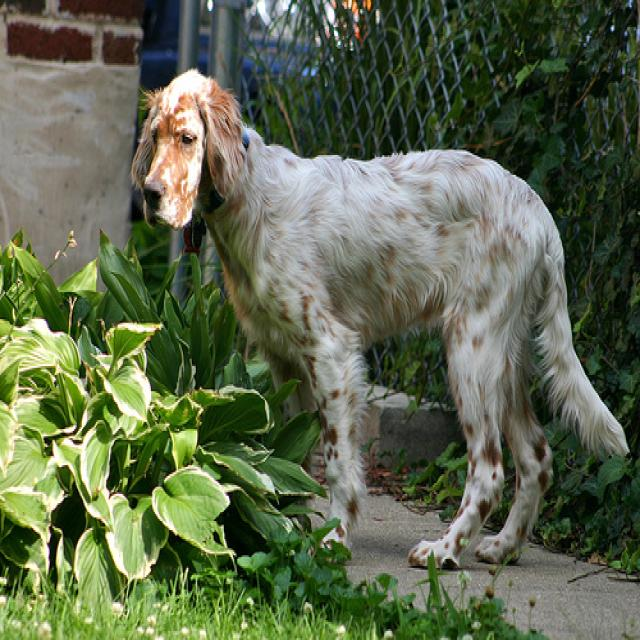dog: (129, 65, 246, 227)
